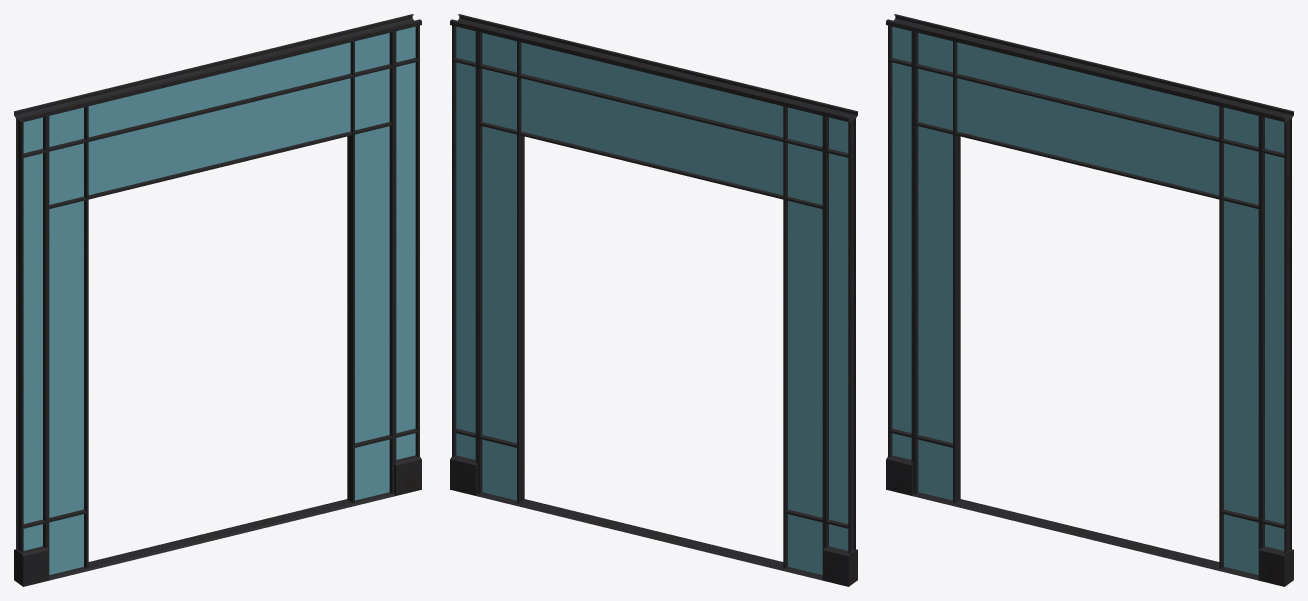
The model's file is door-02.glb.
The picture shows the model from 3 angles, left to right: view 1: azimuth 30°, elevation 25°; view 2: azimuth 150°, elevation 25°; view 3: azimuth 330°, elevation 25°; orthographic projection.
Parts seen in each view (by area): view 1: Door_02_Glass, Door_02; view 2: Door_02_Glass, Door_02; view 3: Door_02_Glass, Door_02.
Part boxes in pixels (x1,y1,x2,y2): Door_02_Glass: (23,26,415,574); Door_02: (14,14,421,586); Door_02_Glass: (456,26,848,574); Door_02: (450,14,857,586); Door_02_Glass: (892,26,1284,574); Door_02: (886,14,1293,586).
Bounding box in the file's own units: 4 × 4.5 × 0.1593.
2 materials, 1 textured.
